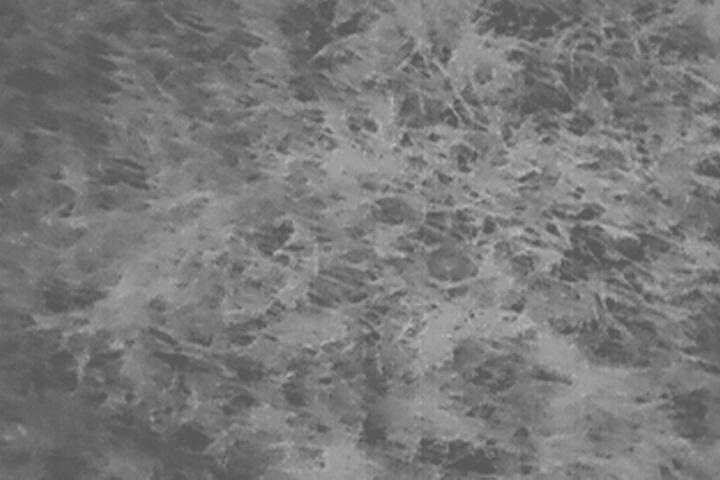landmine: (423, 243, 477, 289)
